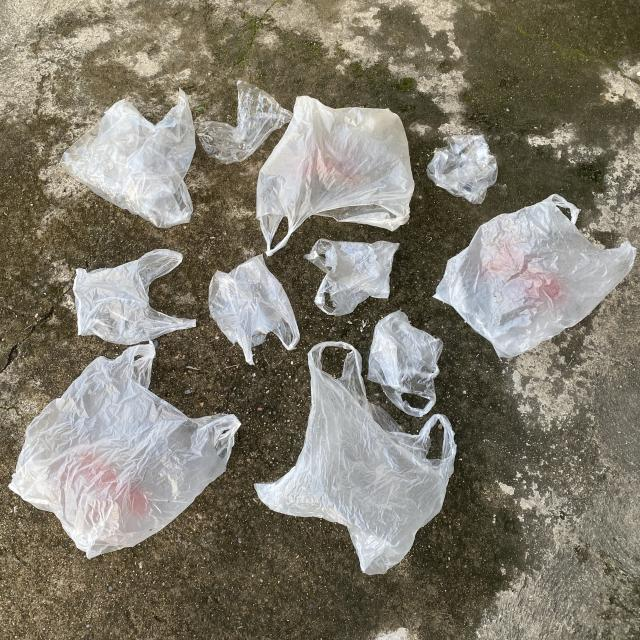Single-layer Plastic: (9, 344, 240, 559), (255, 341, 456, 575), (434, 194, 636, 358), (256, 96, 414, 256), (60, 90, 195, 228), (72, 249, 196, 345), (209, 255, 300, 365), (198, 80, 292, 164), (368, 311, 442, 416), (305, 239, 399, 316), (426, 135, 498, 204)
